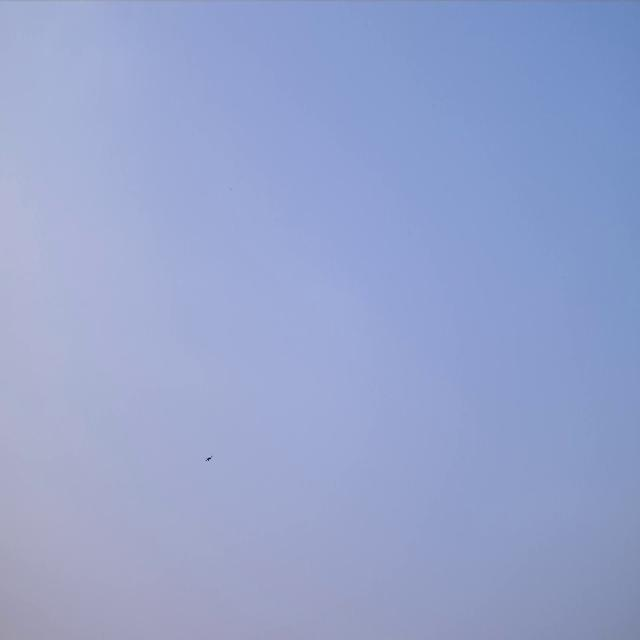UAV: (205, 454, 213, 464)
